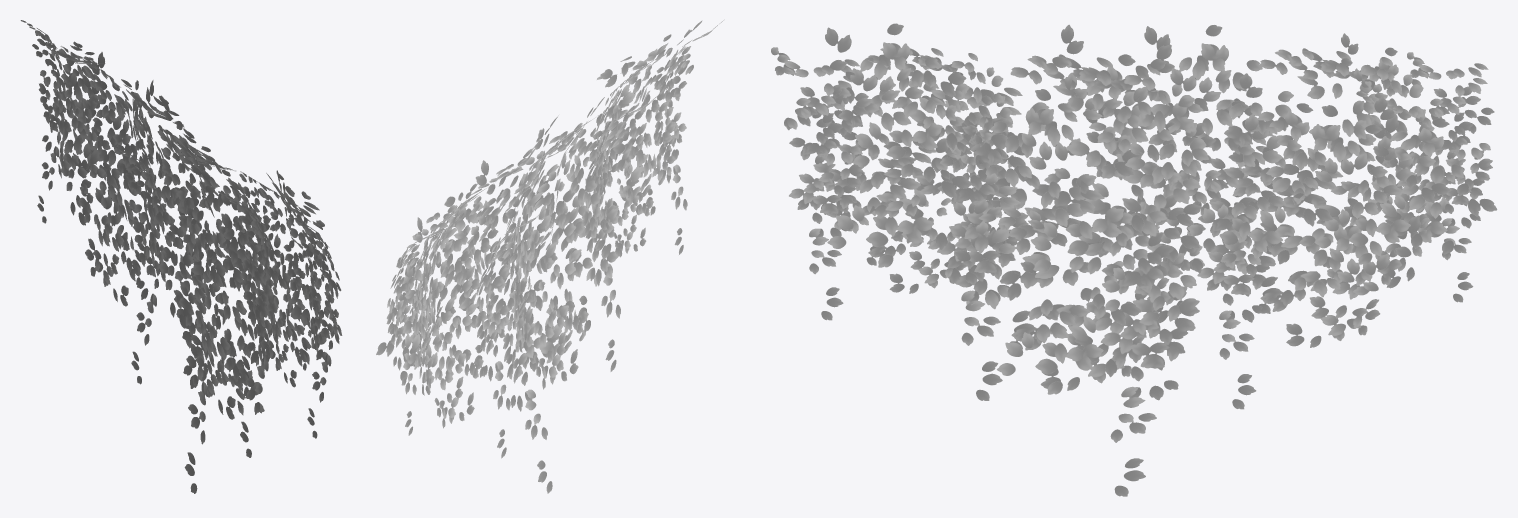
The model's file is SM_Vines_Large_02.fbx.
3 renders of one model, left to right at view 1: azimuth 30°, elevation 25°; view 2: azimuth 150°, elevation 25°; view 3: azimuth 270°, elevation 25°, orthographic. The views are drawn at different scales.
Visible parts, largest first — view 1: Vines_Large_02_LOD0; view 2: Vines_Large_02_LOD0; view 3: Vines_Large_02_LOD0.
Boxes of the visible parts, x1,y1,x2,y2 form: Vines_Large_02_LOD0: [20, 20, 342, 493]; Vines_Large_02_LOD0: [376, 19, 724, 493]; Vines_Large_02_LOD0: [771, 23, 1497, 496].
Size of what is drawn, in the model's own units: 0.8755 by 4.46 by 6.36.
